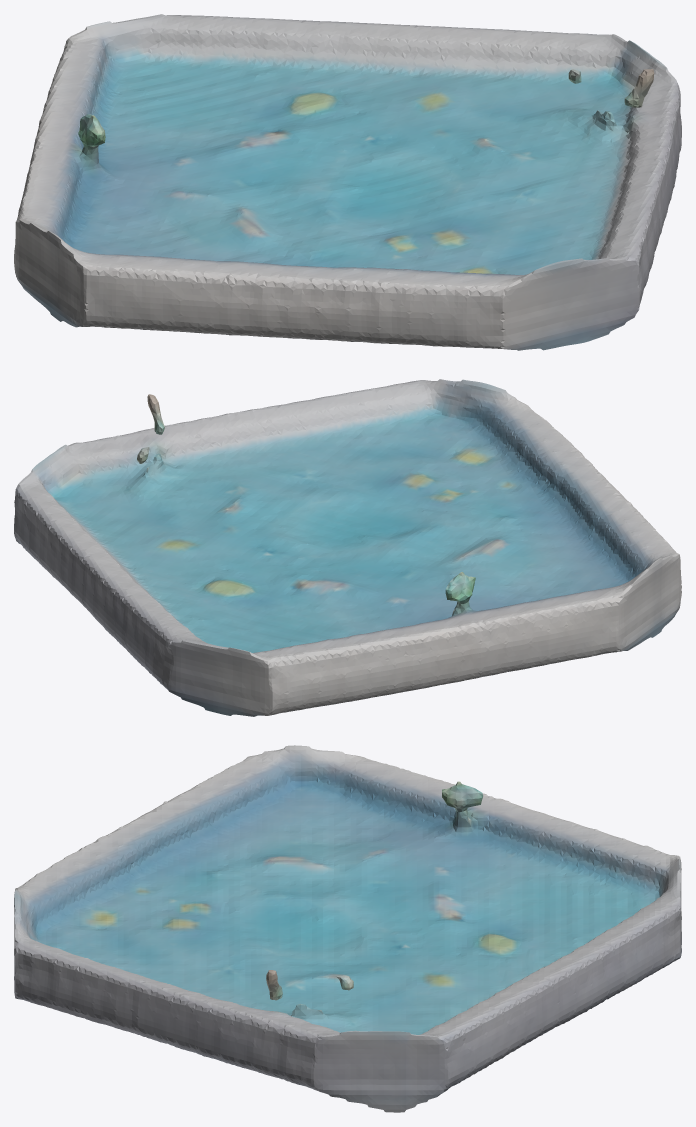
File: fish ponds.glb
3 renders of one model, top to bottom at view 1: azimuth 30°, elevation 25°; view 2: azimuth 150°, elevation 25°; view 3: azimuth 270°, elevation 25°, orthographic. The views are drawn at different scales.
Parts seen in each view (by area): view 1: world; view 2: world; view 3: world.
Part boxes in pixels (x1=…): world: x1=14, y1=14, x2=681, y2=350; world: x1=14, y1=379, x2=681, y2=716; world: x1=14, y1=745, x2=681, y2=1112.
Size of the model in its own units: 1.98 by 0.38 by 1.98.
